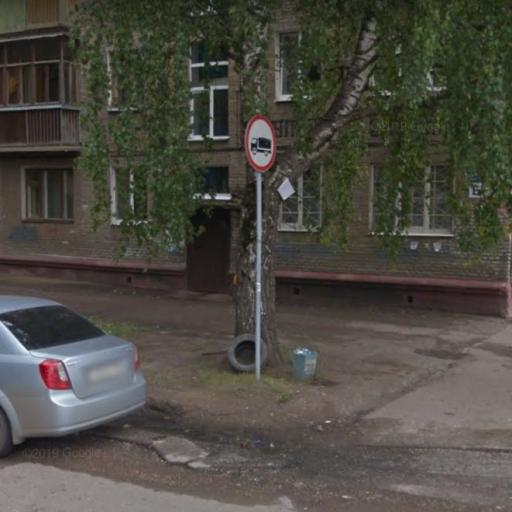traffic_sign: (243, 115, 279, 181)
